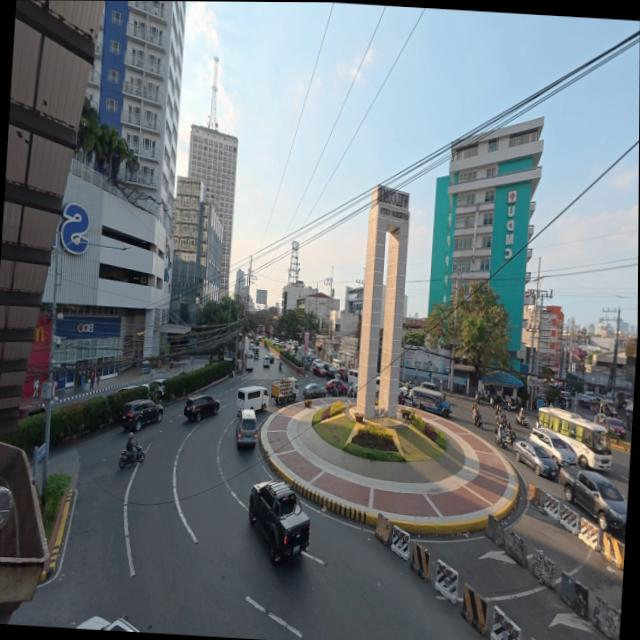car: (120, 399, 163, 433), (182, 395, 220, 426)
trucks: (243, 481, 312, 574)
